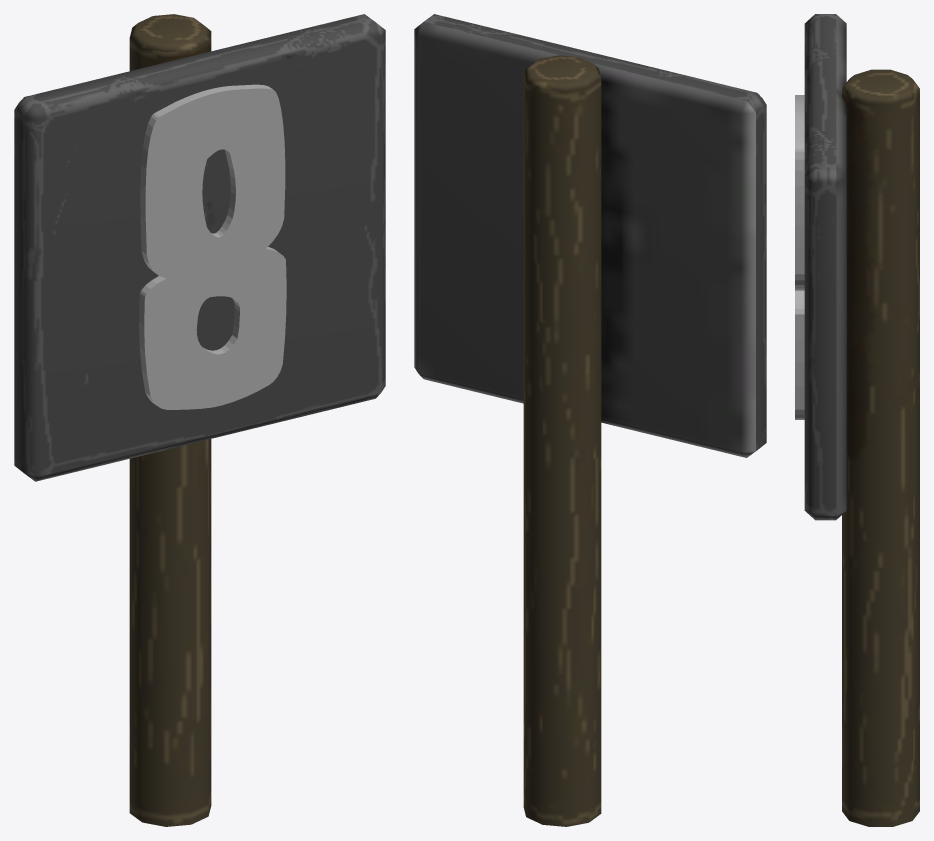
Rendered from sign8.fbx.
The picture shows the model from 3 angles, left to right: view 1: azimuth 30°, elevation 25°; view 2: azimuth 150°, elevation 25°; view 3: azimuth 270°, elevation 25°; orthographic projection. The views are drawn at different scales.
Visible parts, largest first — view 1: sign8; view 2: sign8; view 3: sign8.
Part boxes in pixels (<box>): sign8: <box>14,14,385,826</box>; sign8: <box>414,14,766,826</box>; sign8: <box>795,14,919,826</box>.
Size of the model in its own units: 1 by 2.07 by 0.3223.
Materials: 1 (1 with a texture image).
